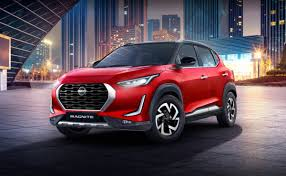Nissan: (49, 43, 232, 131)
